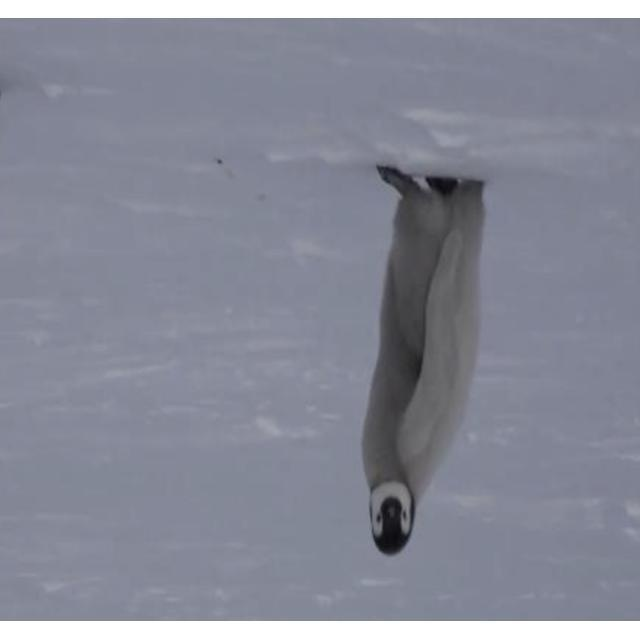penguin: (361, 164, 488, 557)
